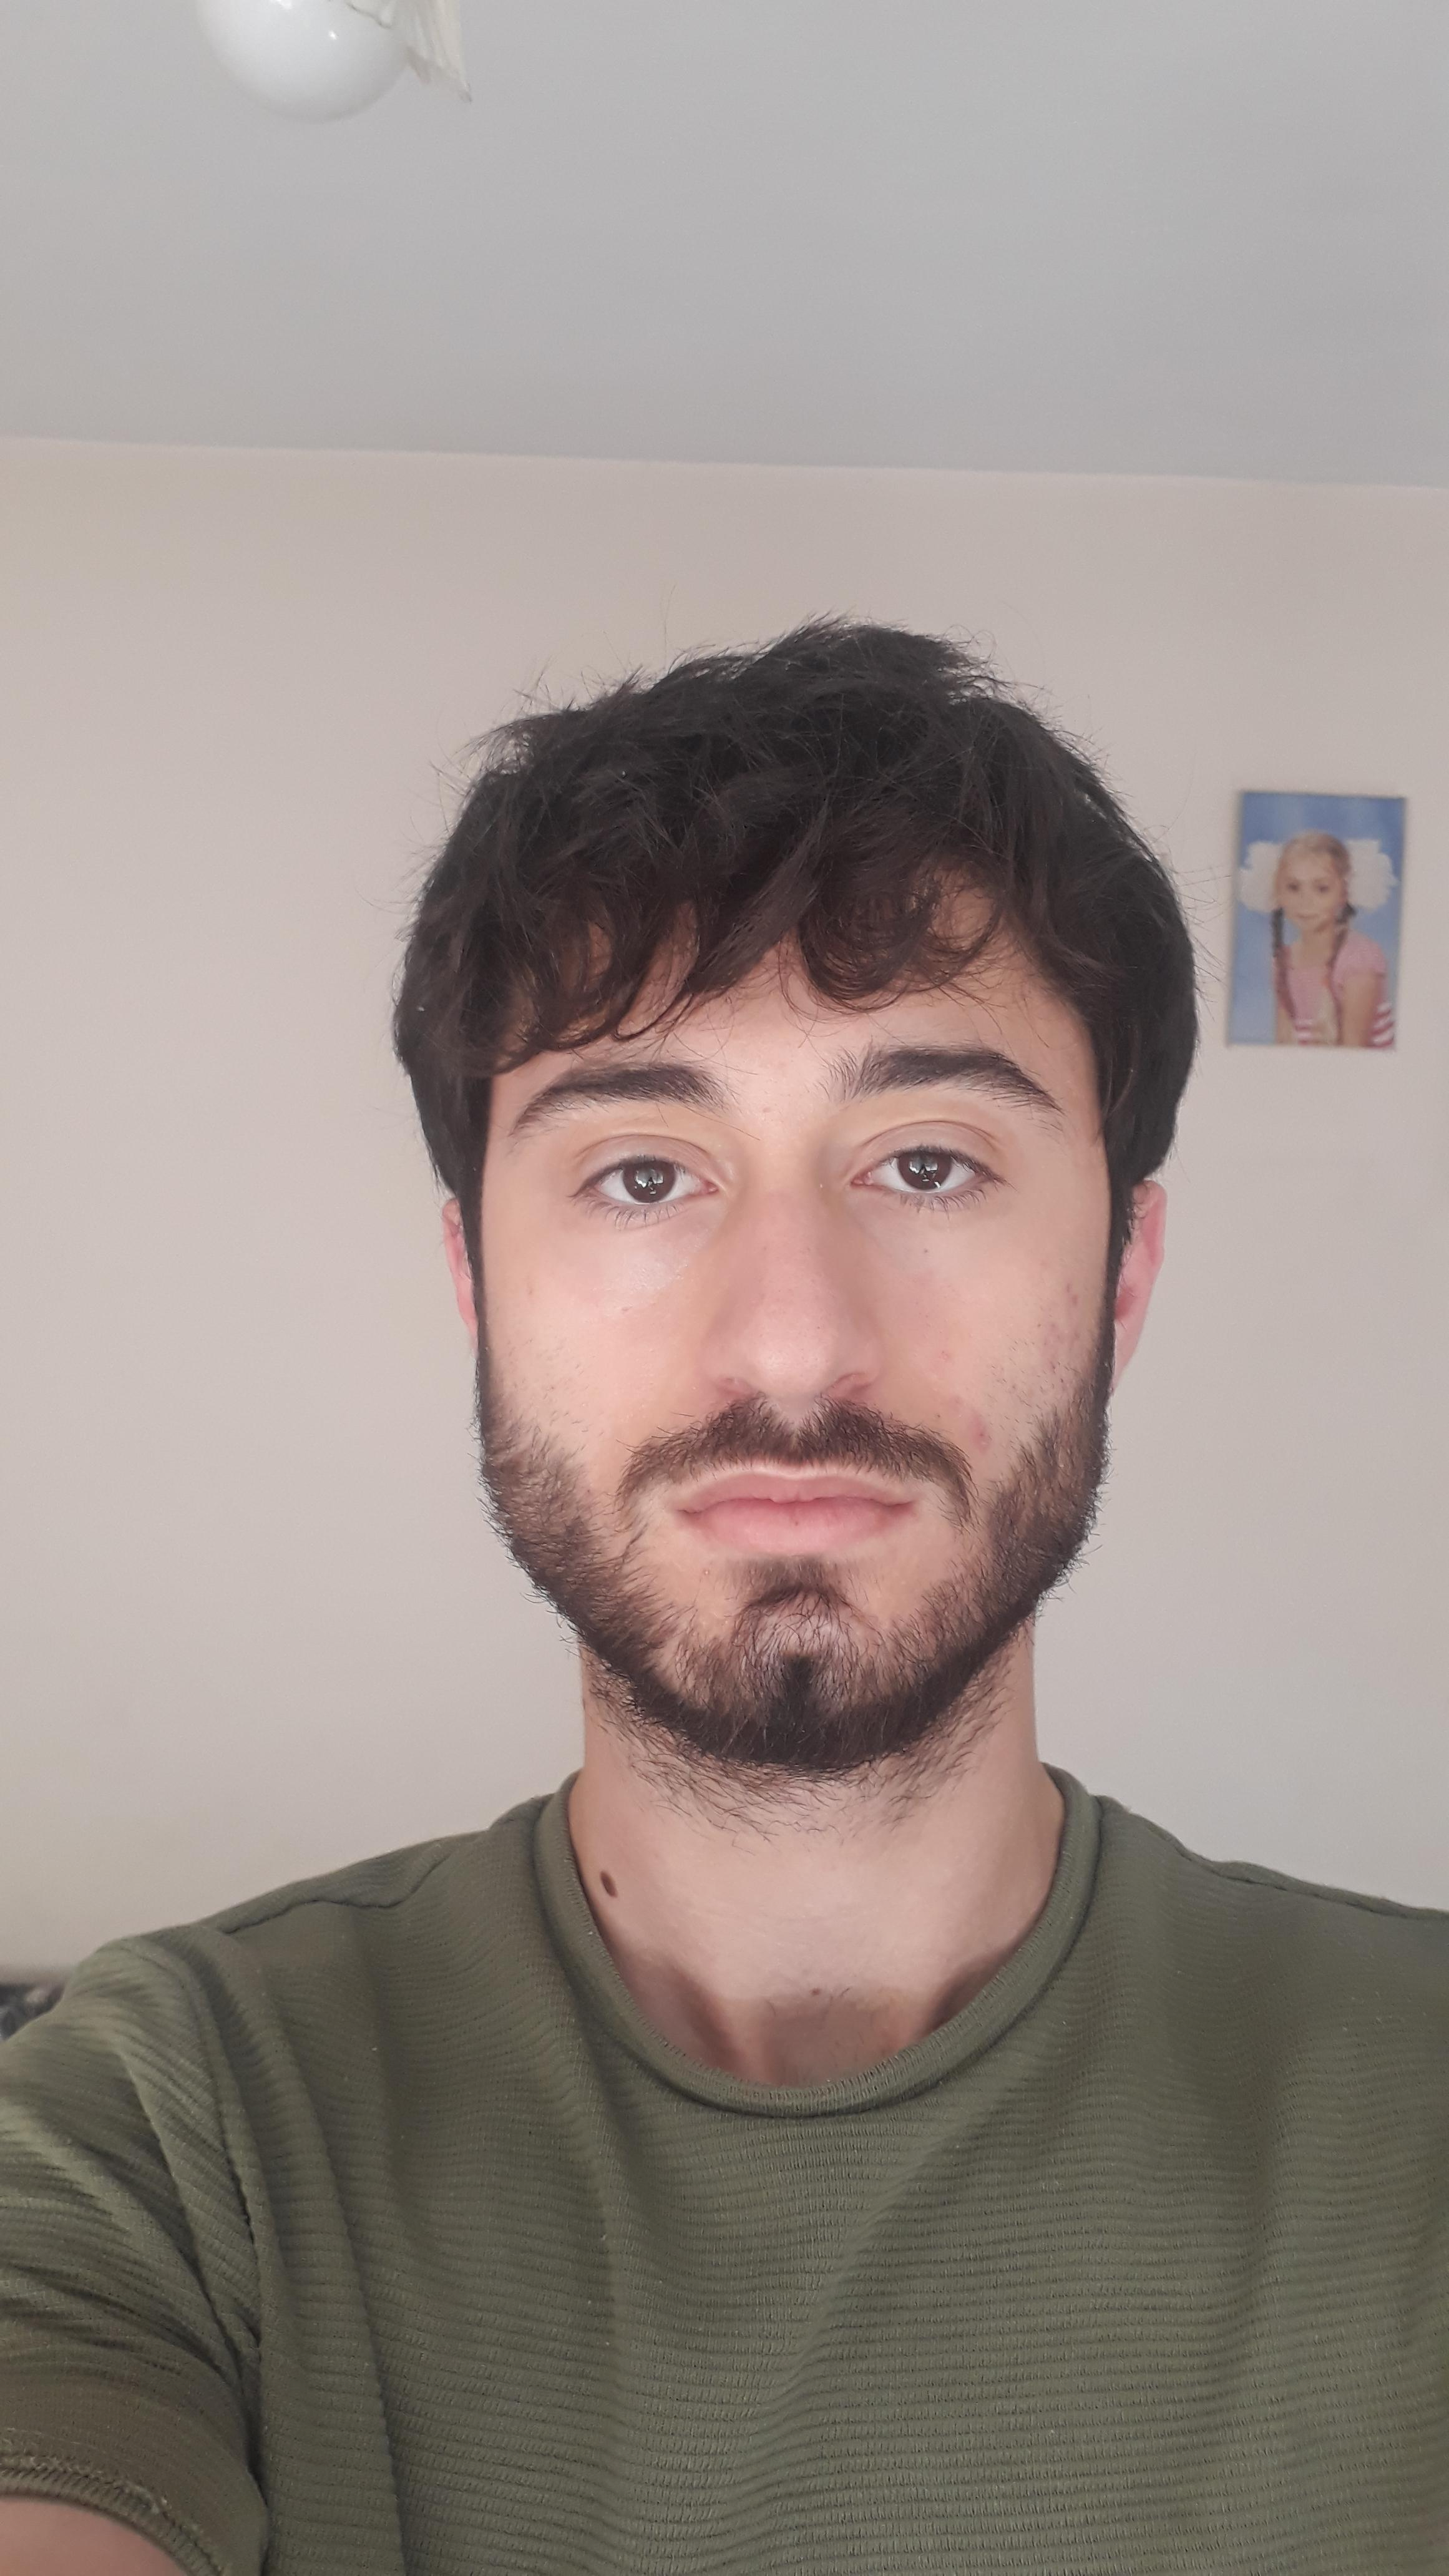Acne: (968, 1403, 998, 1454), (1039, 1318, 1081, 1346), (1060, 1277, 1083, 1309), (941, 1391, 968, 1415), (518, 1276, 536, 1304), (931, 1345, 952, 1364), (699, 1559, 715, 1583), (1044, 1355, 1060, 1380)
